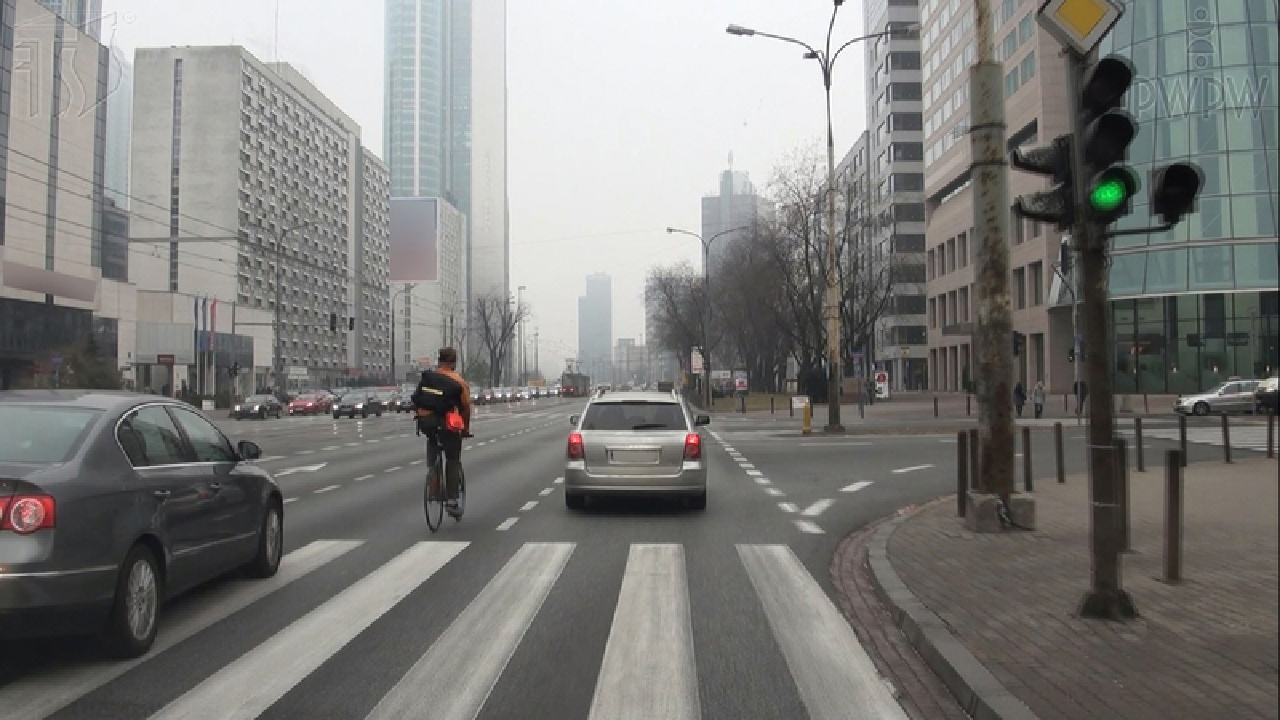D1: (1040, 1, 1123, 55)
Green: (1072, 56, 1140, 220)
